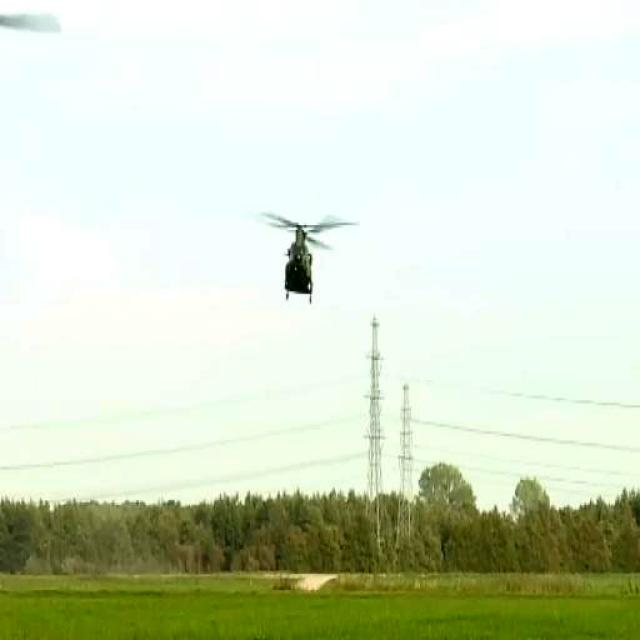drone: (264, 188, 340, 308)
